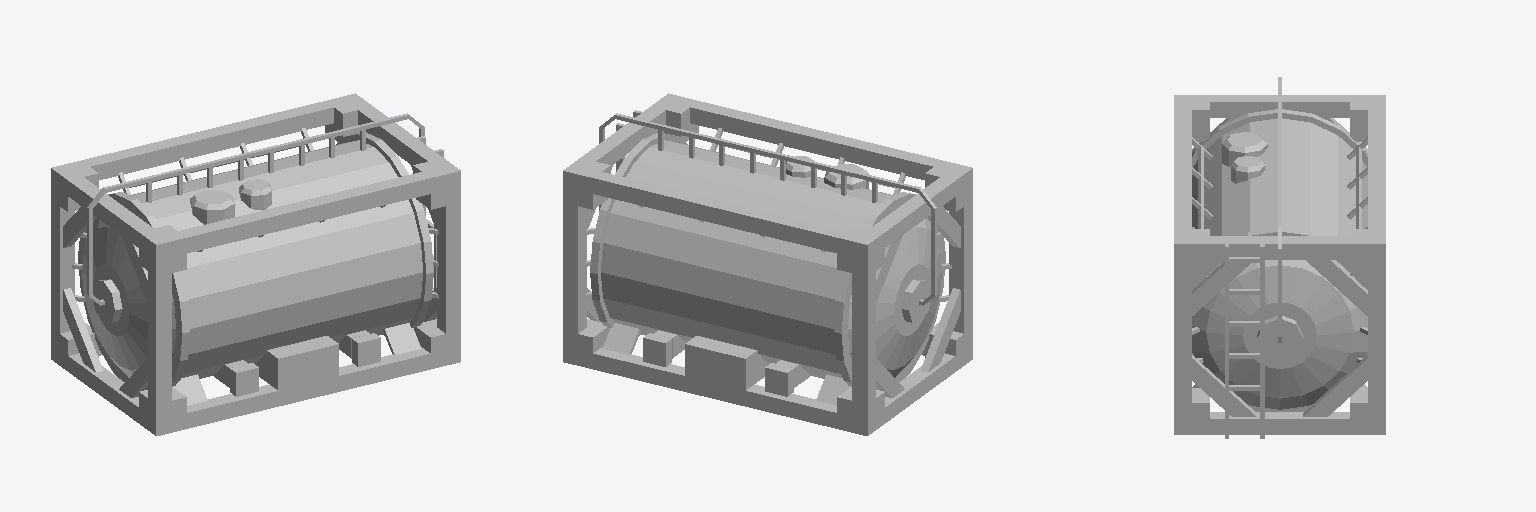
Rendered from fluidtank.obj.
3 renders of one model, left to right at view 1: azimuth 30°, elevation 25°; view 2: azimuth 150°, elevation 25°; view 3: azimuth 270°, elevation 25°, orthographic.
Parts seen in each view (by area): view 1: Frame, Tank; view 2: Frame, Tank; view 3: Frame, Tank.
Boxes of the visible parts, <box> form: Frame: <box>51,93,460,435</box>; Tank: <box>78,133,433,389</box>; Frame: <box>563,93,972,435</box>; Tank: <box>590,133,945,389</box>; Frame: <box>1174,77,1385,438</box>; Tank: <box>1192,109,1367,411</box>.
Bounding box in the file's own units: 5.5 × 3.28 × 3.